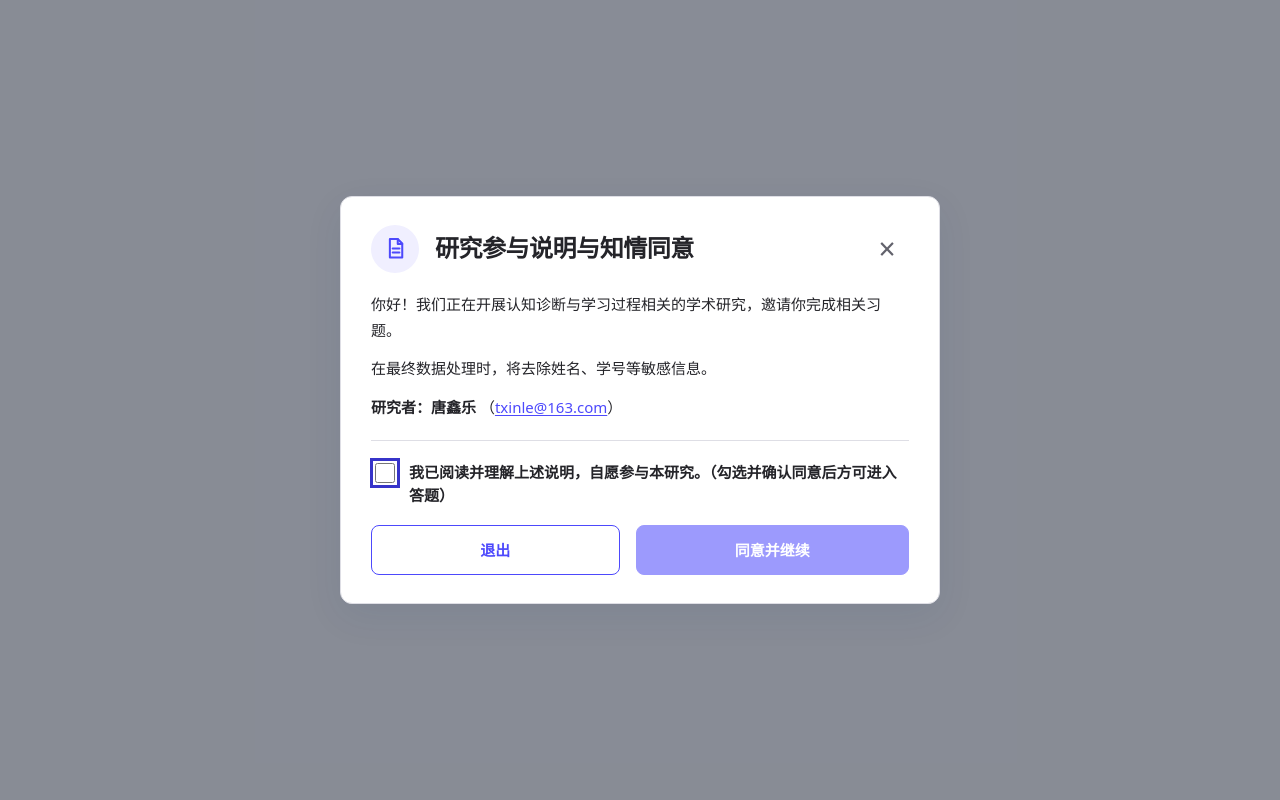
Test: ResearchConsentDialog › keeps the dialog available for retry after acceptance fails
Click the checkbox labelled "我已阅读并理解上述说明，自愿参与本研究。（勾选并确认同意后方可进入答题）" at (385, 473), box [375,463,395,483]
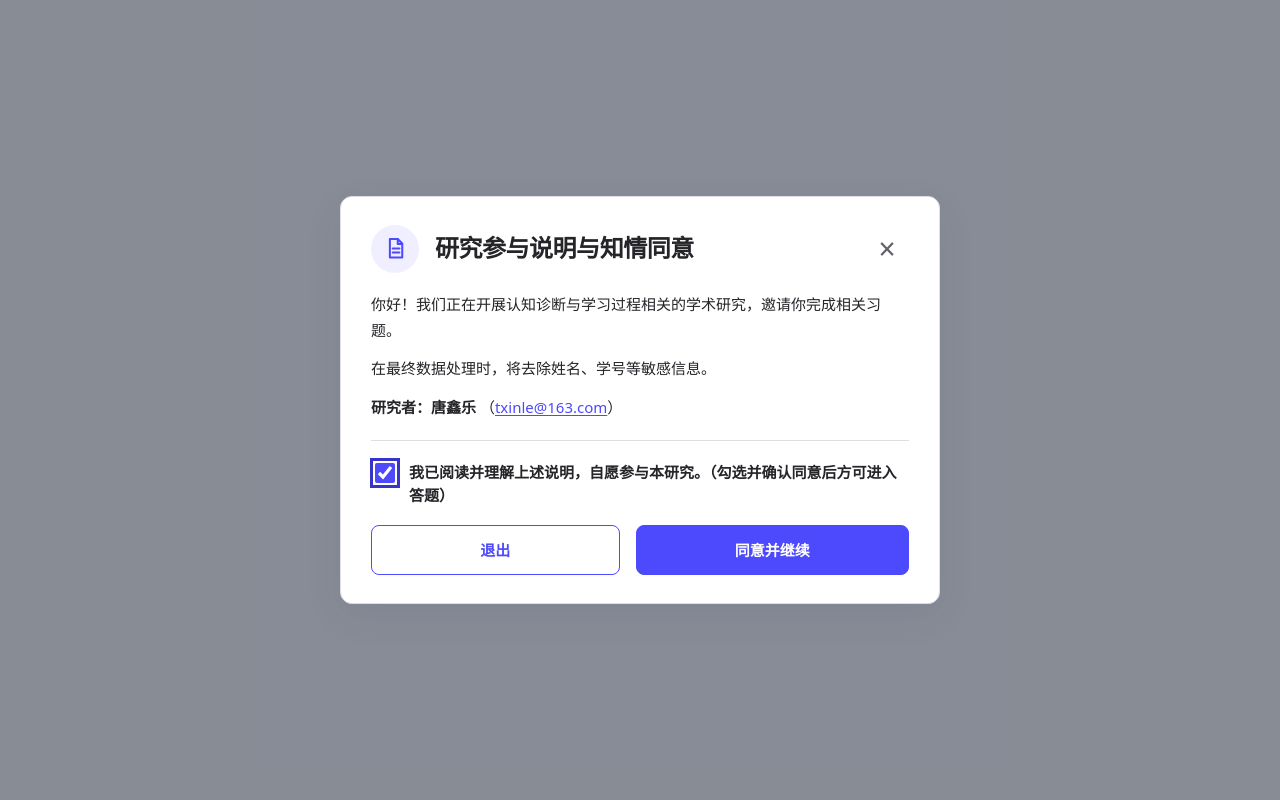
Click the button "同意并继续" at (772, 550), box [636,525,909,575]
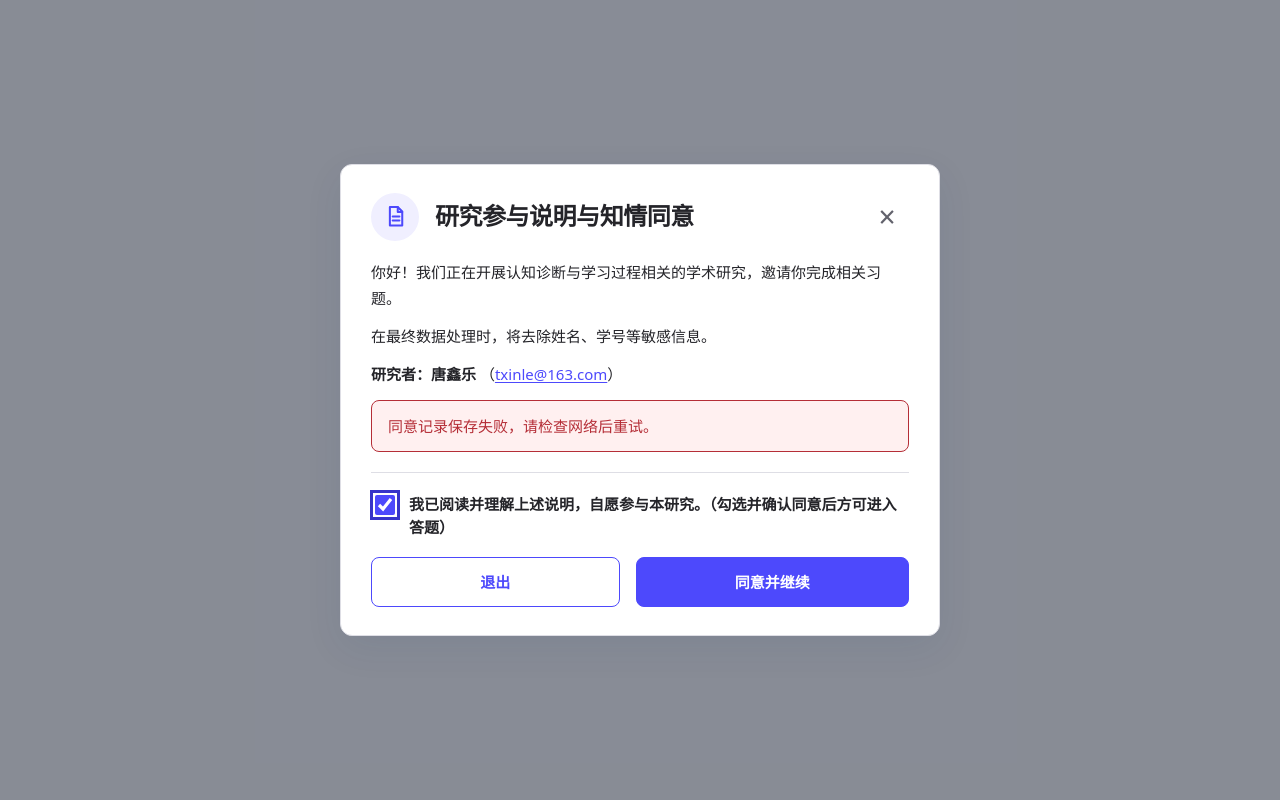
Expected: the dialog is shown, [340,164,940,636]
Expected: the button "同意并继续" is enabled, [636,557,909,607]
Expected: the message "同意记录保存失败，请检查网络后重试。" is shown, [371,400,909,452]
